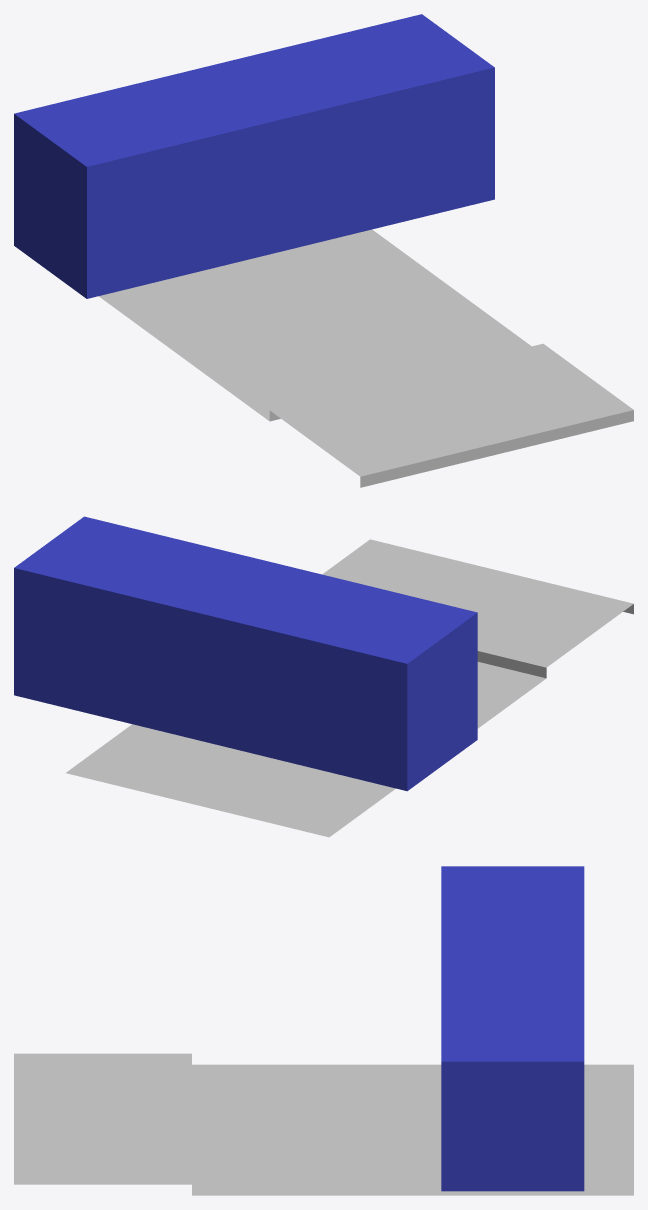
The model's file is cubo.fbx.
3 views of the same model, one above another, from view 1: azimuth 30°, elevation 25°; view 2: azimuth 150°, elevation 25°; view 3: azimuth 270°, elevation 25° (orthographic). The views are drawn at different scales.
Visible parts, largest first — view 1: root, node_id4; view 2: root, node_id4; view 3: node_id4, root.
Part boxes in pixels (x1,y1,x2,y2): root: (14, 14, 494, 298); node_id4: (99, 229, 633, 487); root: (14, 516, 477, 791); node_id4: (66, 539, 633, 837); node_id4: (14, 1053, 633, 1195); root: (441, 866, 584, 1191).
Size of the model in its own units: 0.7634 by 0.3131 by 1.02.
